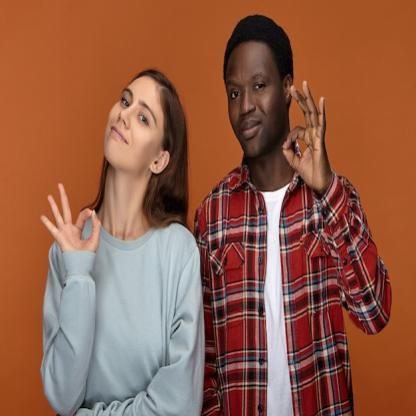ok: (38, 178, 104, 262), (280, 78, 328, 191)
